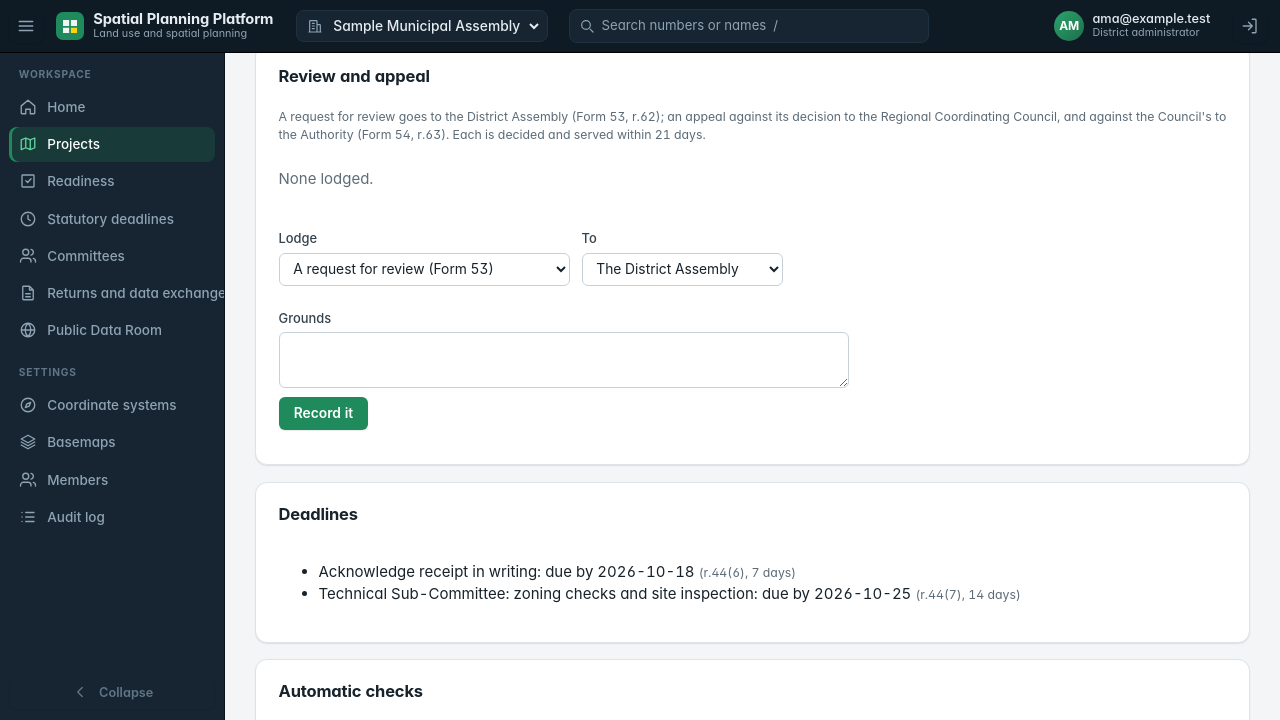
Test: permit page › records a request for review, its decision, and allows an appeal after it
(page scrolled)
In the text box labelled "Grounds": {"x": 564, "y": 360} [278, 332, 848, 388], type "The reservation was moved."
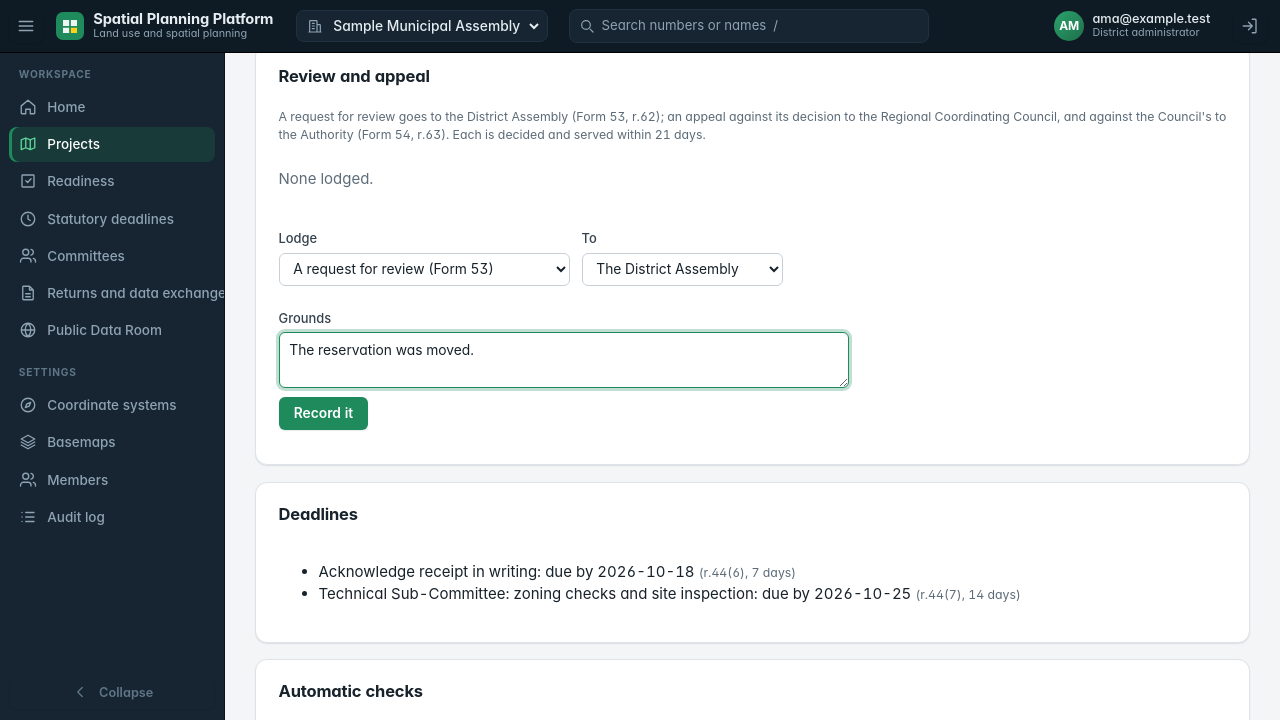
Click the button "Record it": {"x": 323, "y": 413} [278, 397, 368, 430]
(page scrolled)
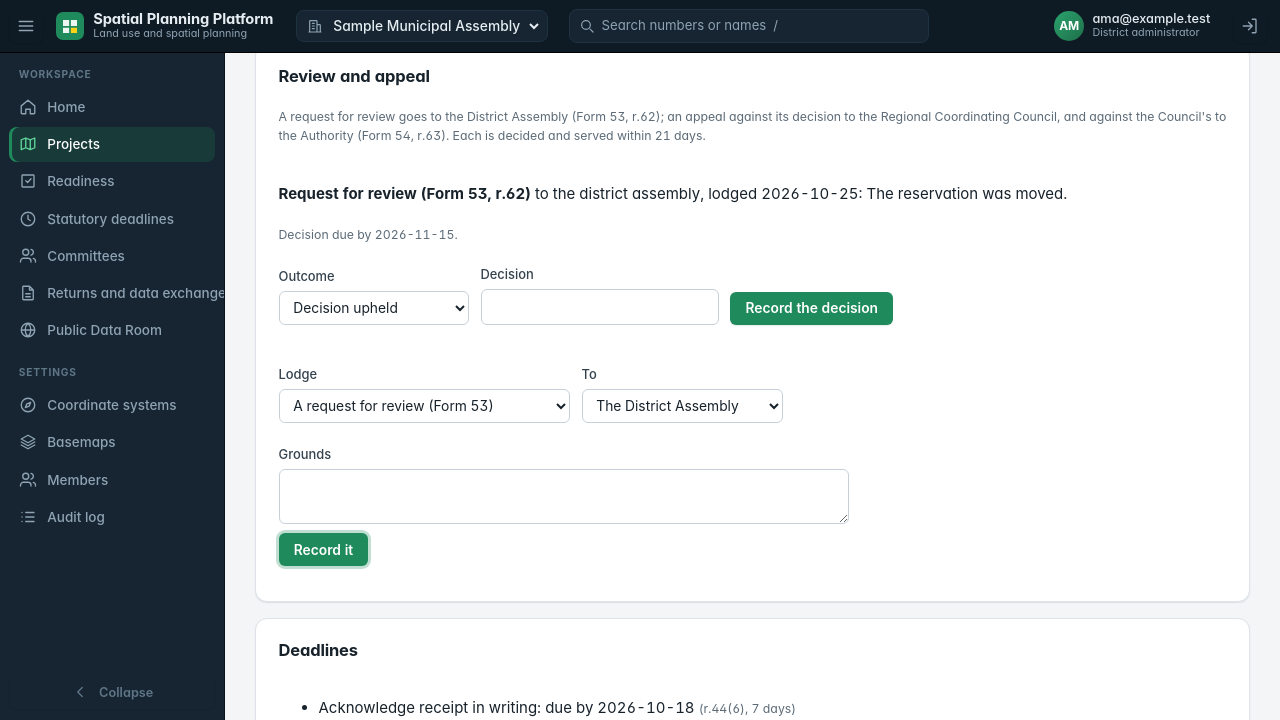
Check: the text "Decision due by 2026-11-15." is shown, box [278, 227, 458, 242]
In the field named "Decision on the review": {"x": 600, "y": 307} [480, 288, 719, 325], type "It stands."
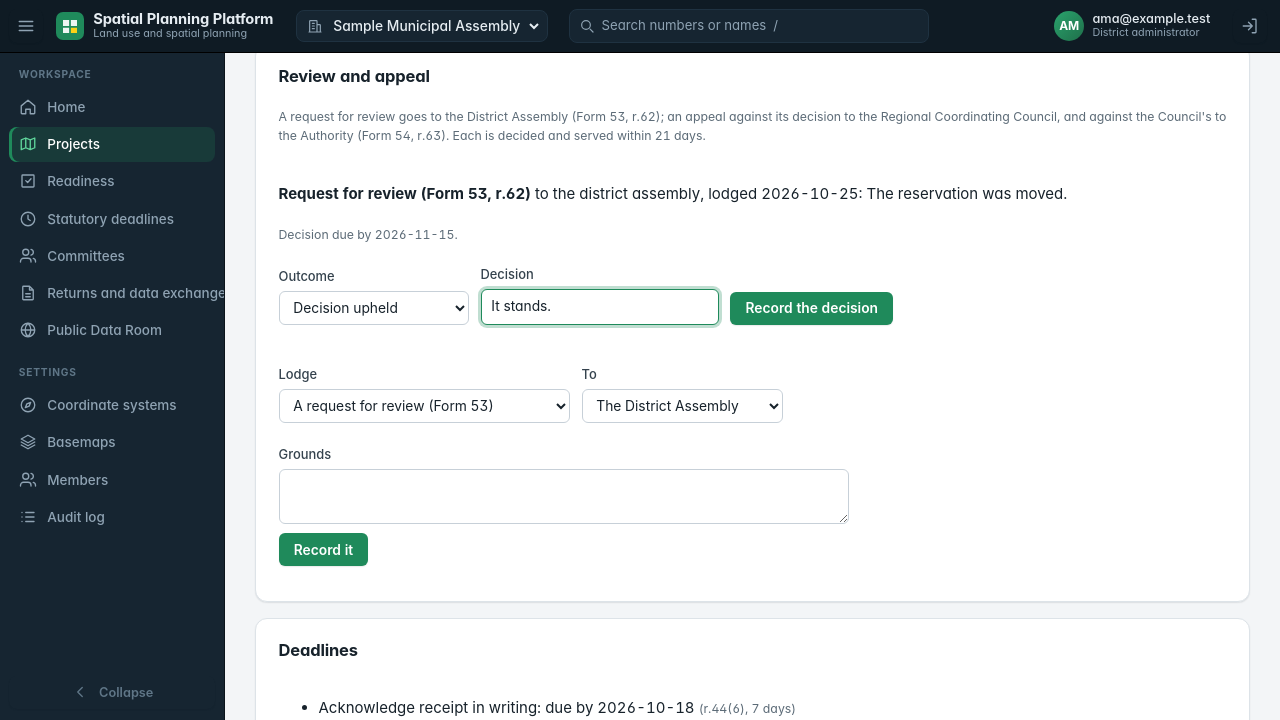
Click the button "Record the decision": {"x": 812, "y": 308} [730, 292, 893, 325]
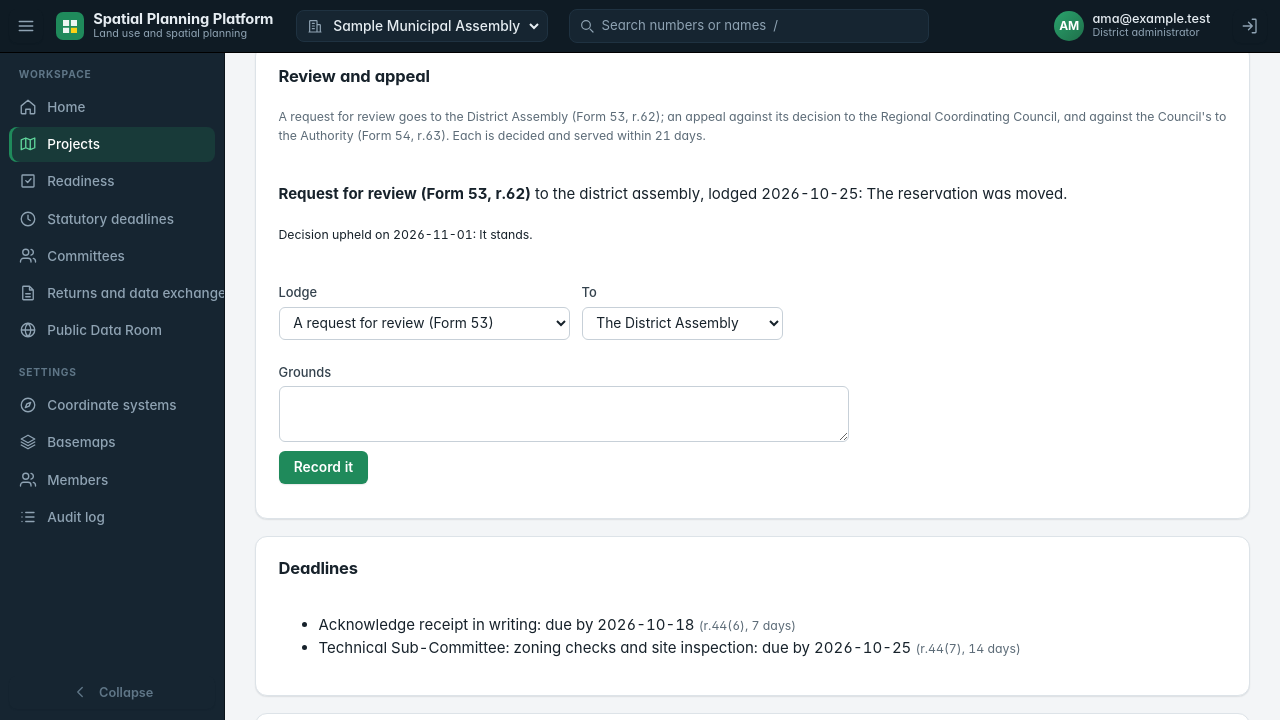
Check: the text "Decision upheld on 2026-11-01: It stands." is shown, box [278, 227, 533, 242]
